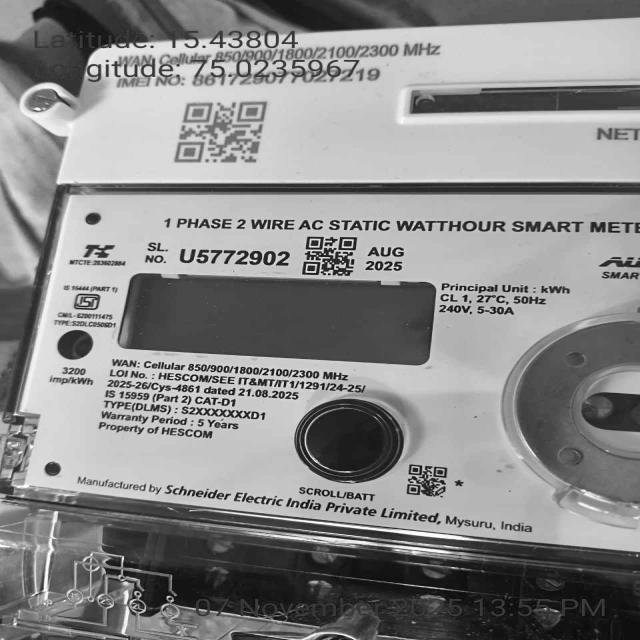meter: (9, 22, 637, 551)
